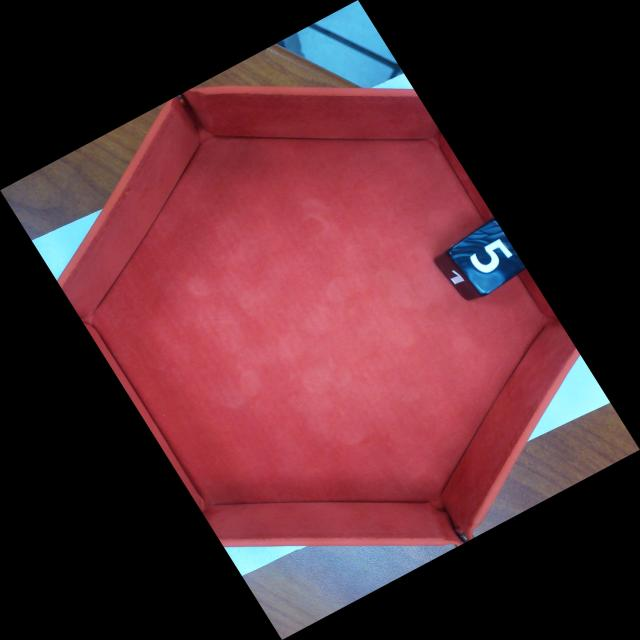dice: (447, 217, 527, 298)
